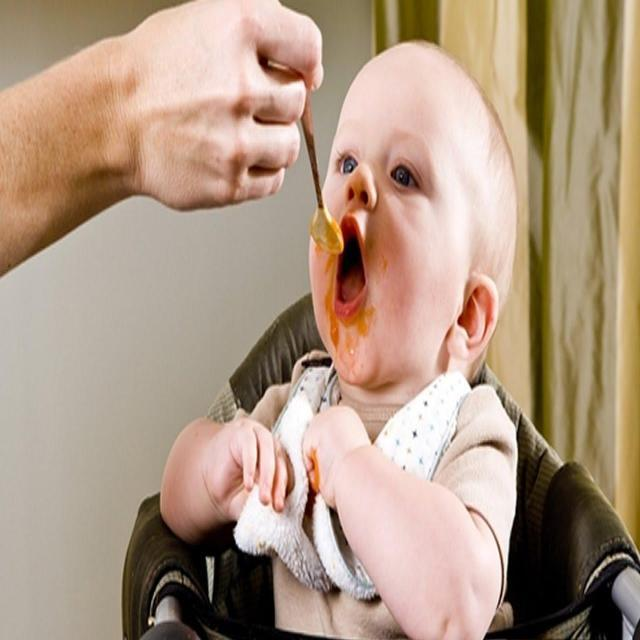child: (6, 4, 529, 637)
